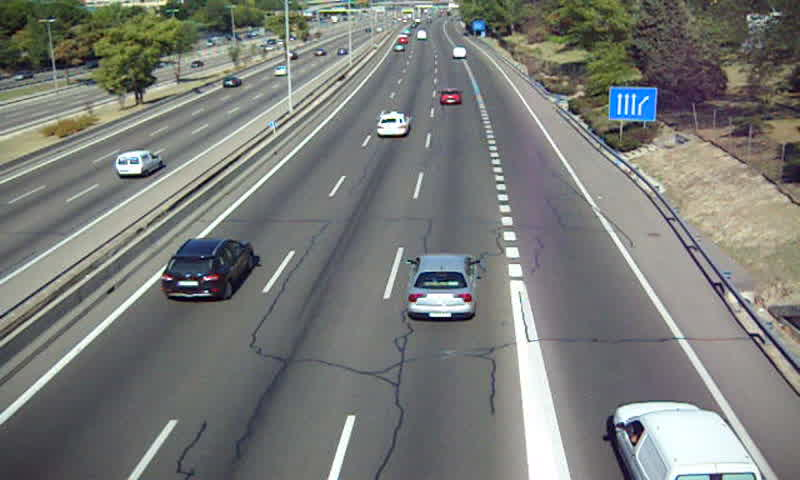car: (161, 237, 255, 300), (407, 255, 477, 320), (376, 110, 411, 138), (439, 88, 461, 105)
van: (612, 402, 763, 480)
